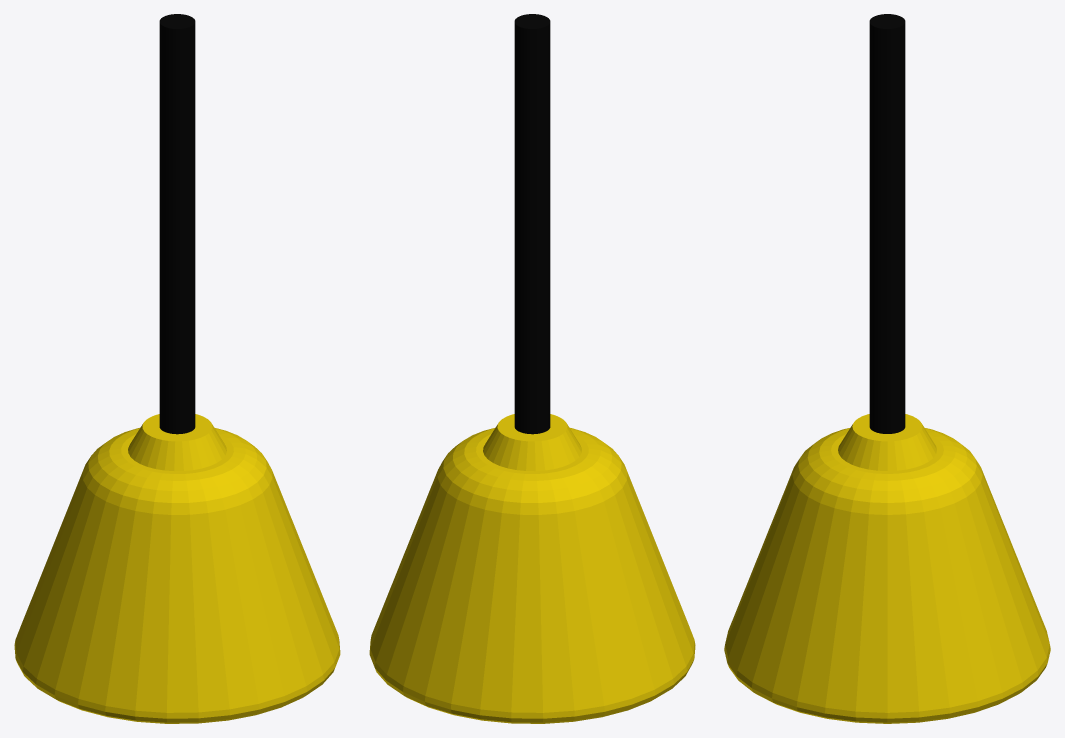
Rendered from lamp.glb.
3 renders of one model, left to right at view 1: azimuth 30°, elevation 25°; view 2: azimuth 150°, elevation 25°; view 3: azimuth 270°, elevation 25°, orthographic.
Parts seen in each view (by area): view 1: lamp; view 2: lamp; view 3: lamp.
Boxes of the visible parts, x1=… form: lamp: x1=14, y1=14, x2=340, y2=723; lamp: x1=369, y1=14, x2=695, y2=723; lamp: x1=724, y1=14, x2=1050, y2=723.
Bounding box in the file's own units: 137 × 296 × 137.
